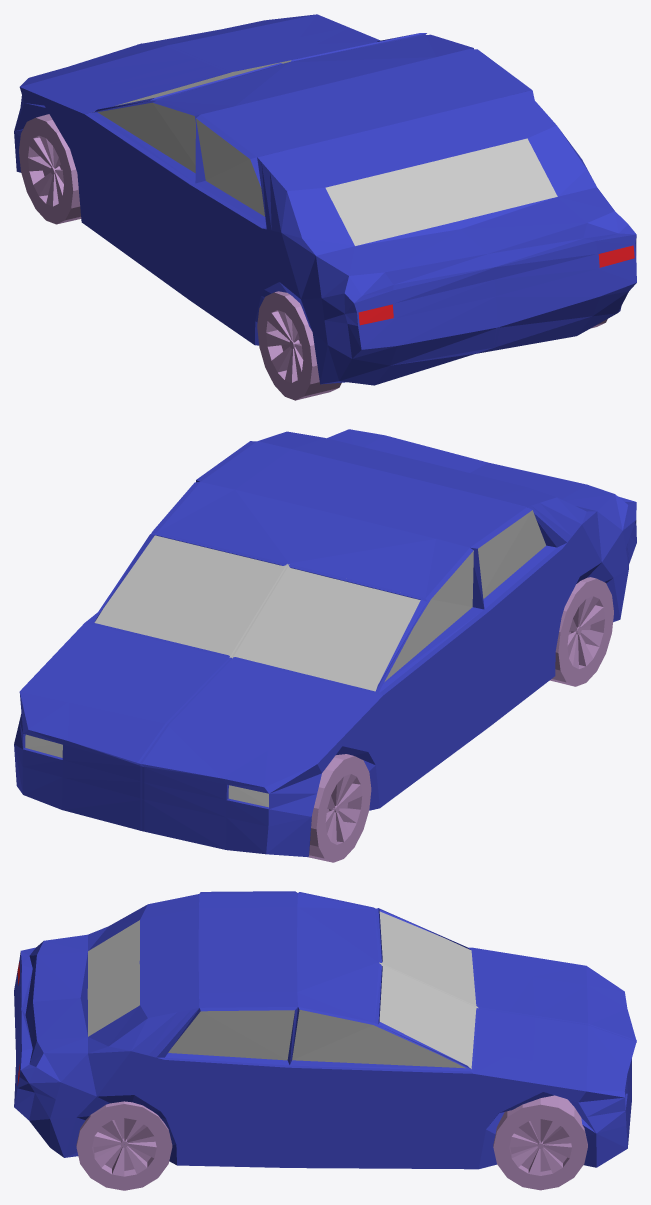
File: car1.obj
3 renders of one model, top to bottom at view 1: azimuth 30°, elevation 25°; view 2: azimuth 150°, elevation 25°; view 3: azimuth 270°, elevation 25°, orthographic. The views are drawn at different scales.
Visible parts, largest first — view 1: Cube; view 2: Cube; view 3: Cube.
Part boxes in pixels (box(x1,y1,x2,y2)): Cube: box(14, 14, 636, 400); Cube: box(14, 429, 636, 862); Cube: box(14, 891, 636, 1190).
Bounding box in the file's own units: 1.95 × 1.27 × 4.03.
